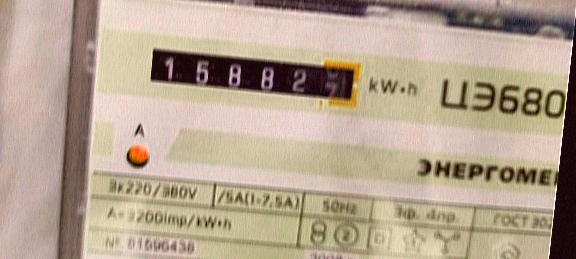1: (163, 55, 179, 81)
2: (292, 67, 310, 93)
5: (194, 57, 213, 85)
7: (325, 79, 341, 99)
8: (227, 62, 246, 90), (260, 65, 278, 91)
screen: (135, 31, 373, 119)
